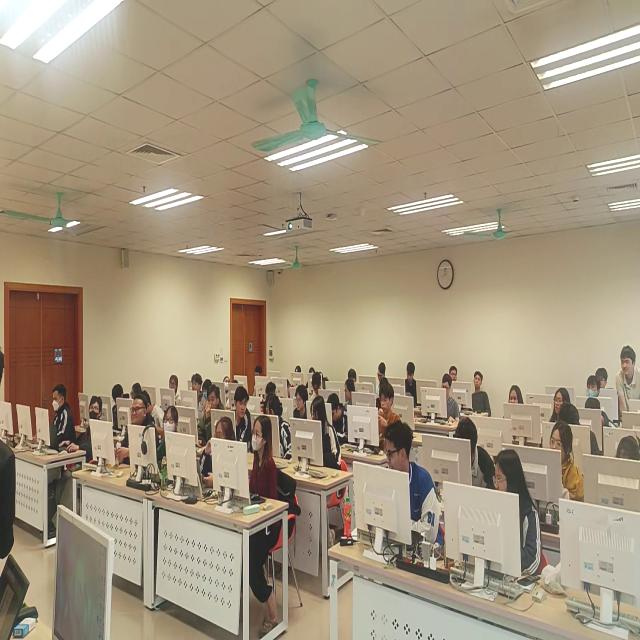raise_head: (246, 428, 279, 546), (118, 403, 157, 468), (75, 399, 105, 477), (157, 405, 184, 481), (463, 370, 489, 418), (500, 384, 526, 430), (201, 390, 224, 435), (544, 390, 570, 427), (189, 374, 204, 412), (595, 370, 611, 393), (586, 376, 600, 401), (450, 362, 460, 386)
stand: (618, 345, 640, 432)
using_computer: (592, 431, 640, 508), (531, 432, 578, 505), (36, 389, 74, 449), (369, 386, 405, 442), (420, 380, 461, 429), (107, 385, 131, 430), (288, 386, 312, 427), (160, 379, 181, 420), (326, 395, 345, 440), (370, 358, 389, 392), (403, 365, 418, 403), (310, 375, 328, 403)
using_phone: (203, 418, 239, 505)
